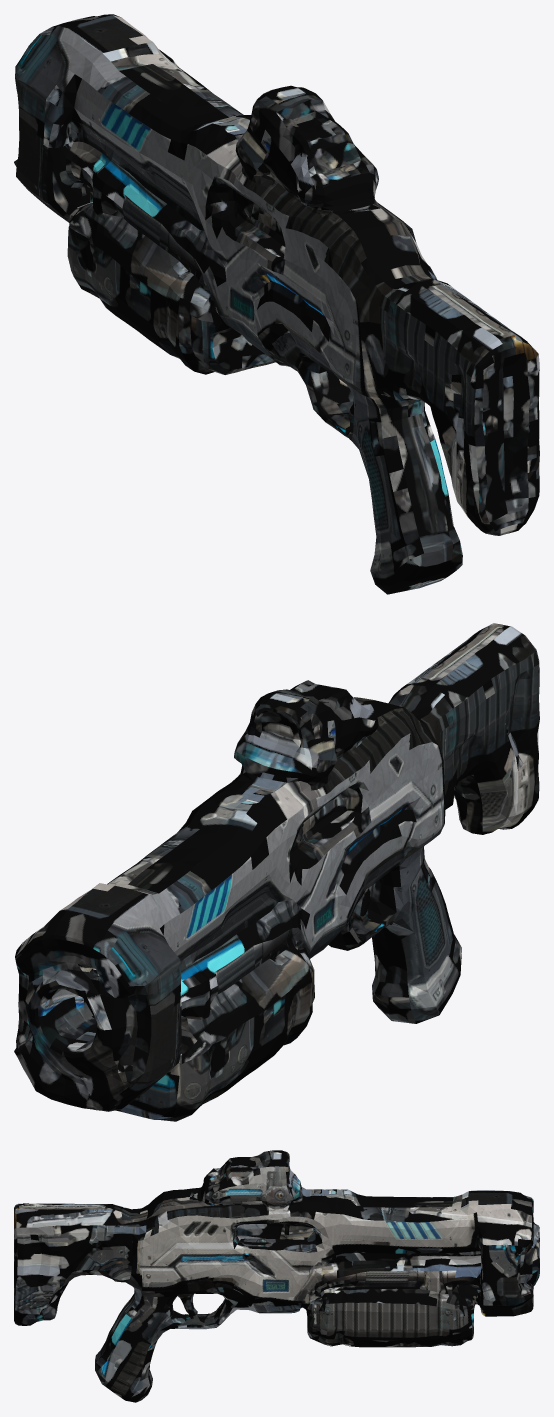
File: Sci-fi_Shotgun_Low10k.fbx
3 views of the same model, one above another, from view 1: azimuth 30°, elevation 25°; view 2: azimuth 150°, elevation 25°; view 3: azimuth 270°, elevation 25° (orthographic). The views are drawn at different scales.
Visible parts, largest first — view 1: Sci-fi_Shotgun_Low10k; view 2: Sci-fi_Shotgun_Low10k; view 3: Sci-fi_Shotgun_Low10k.
Part boxes in pixels (bbox=[...]): Sci-fi_Shotgun_Low10k: bbox=[14, 14, 539, 594]; Sci-fi_Shotgun_Low10k: bbox=[14, 623, 539, 1121]; Sci-fi_Shotgun_Low10k: bbox=[14, 1150, 539, 1402].
Bounding box in the file's own units: 17.9 × 50.97 × 99.86.
1 material, 1 textured.
